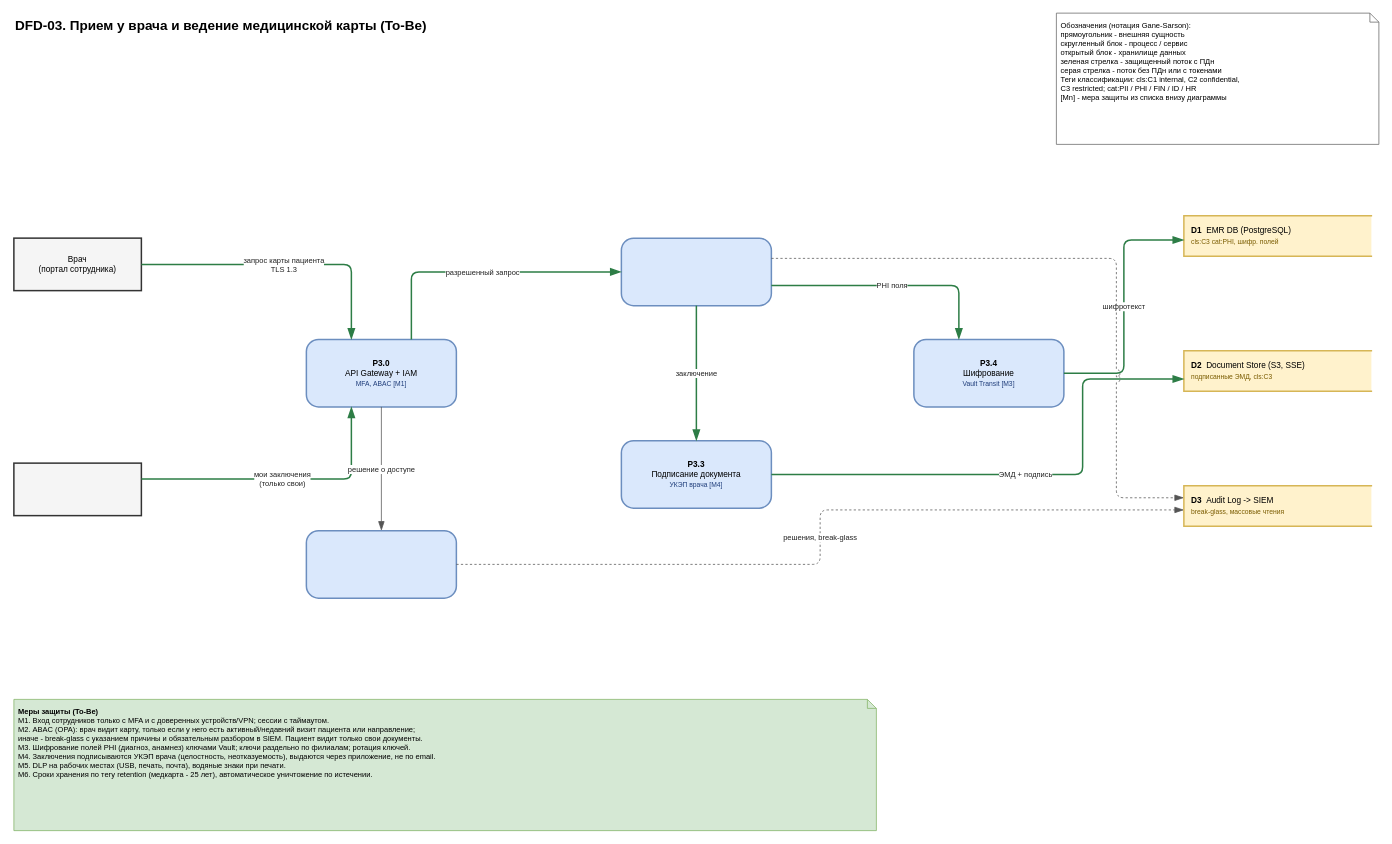
Image size: 1392x844. Some labels were removed from this diagram. Here are the shapes that lost their labels. From the top down, the box of each, then its label:
(620, 237, 772, 306): P3.2 Ведение медкарты EMR Service
(13, 462, 142, 516): Пациент (приложение)
(305, 530, 457, 598): P3.1 Policy Decision Point OPA: лечащий врач? [М2]
